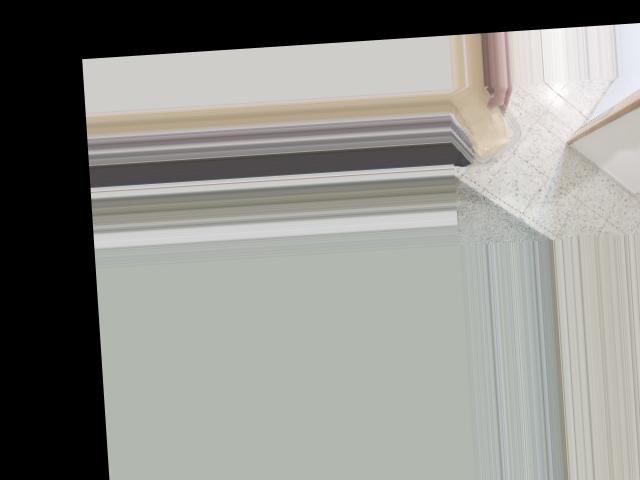cheese: (447, 82, 521, 164)
